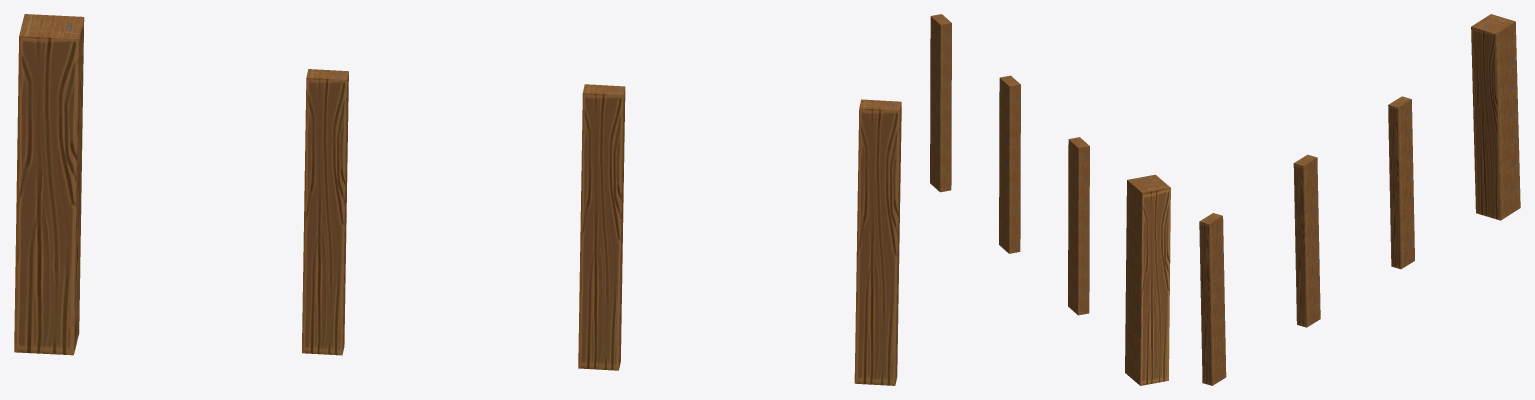
3 renders of one model, left to right at view 1: azimuth 30°, elevation 25°; view 2: azimuth 150°, elevation 25°; view 3: azimuth 270°, elevation 25°, orthographic. The views are drawn at different scales.
Visible parts, largest first — view 1: Cube.777; view 2: Cube.777; view 3: Cube.777.
Boxes of the visible parts, x1=… form: Cube.777: x1=14, y1=14, x2=901, y2=385; Cube.777: x1=930, y1=14, x2=1170, y2=385; Cube.777: x1=1199, y1=14, x2=1520, y2=385.
Size of the model in its own units: 346 by 166 by 256.
Materials: 1 (1 with a texture image).
